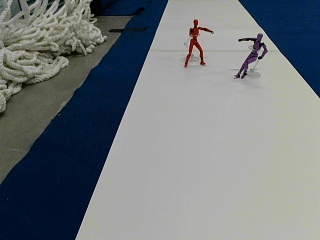pedestrian: (184, 18, 214, 67), (235, 31, 266, 78)
